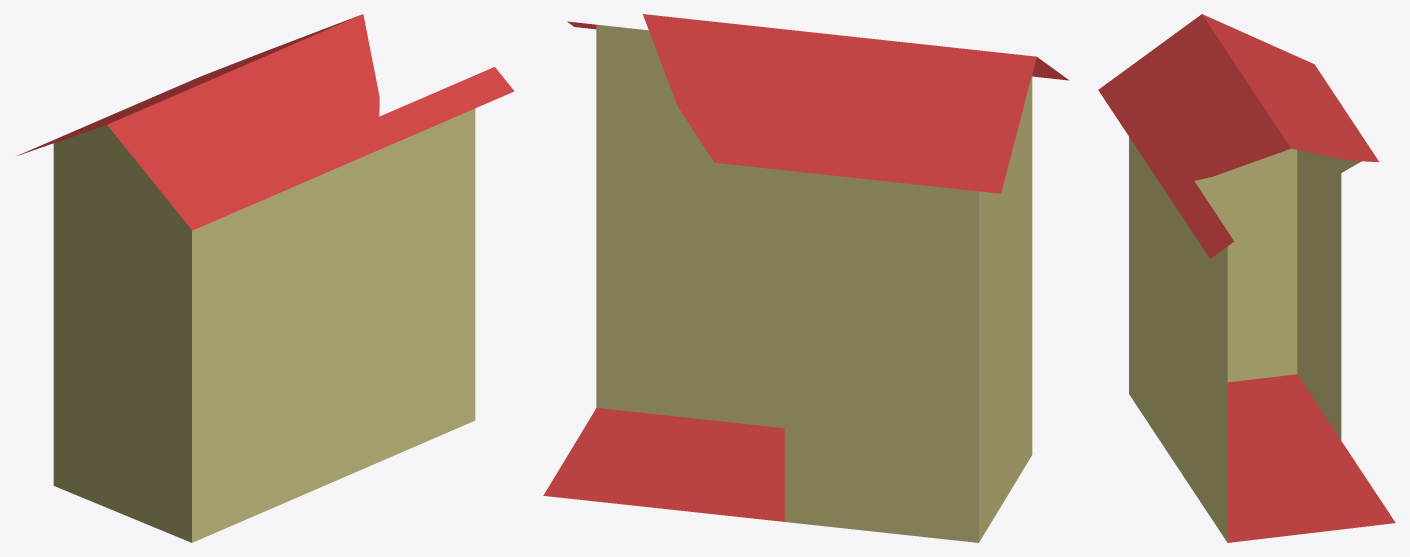
3 renders of one model, left to right at view 1: azimuth 30°, elevation 25°; view 2: azimuth 150°, elevation 25°; view 3: azimuth 270°, elevation 25°, orthographic. The views are drawn at different scales.
Size of the model in its own units: 13.79 by 8.91 by 11.9.
